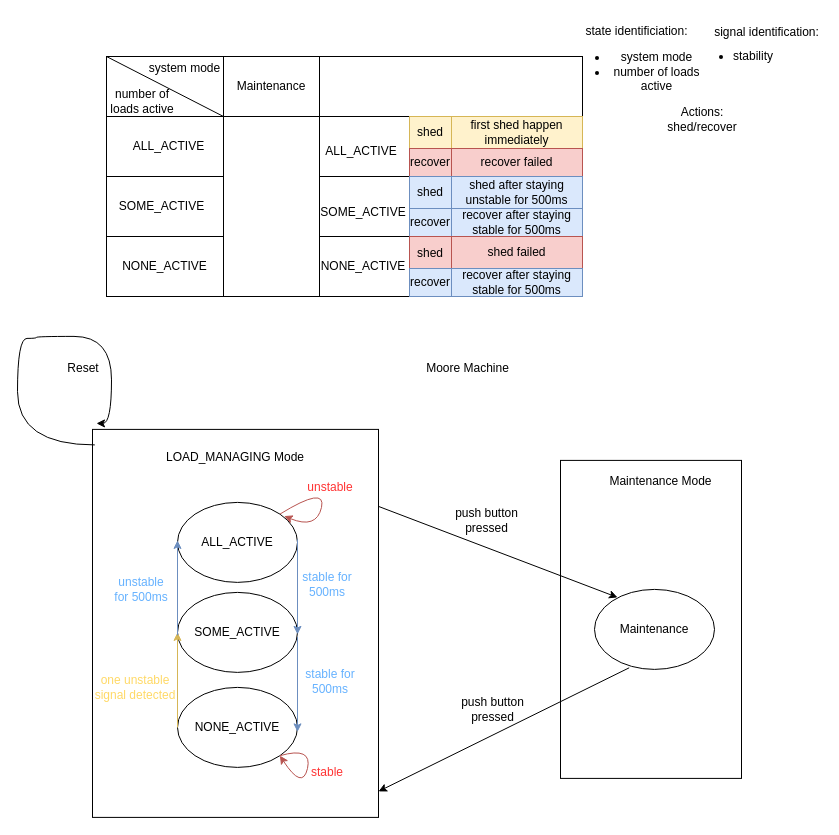
This 839x835 diagram has some shape labels left out. The shapes that lost their labels are listed below. From the top down, each one's centre as x and y in pixels, then its label:
At point (450, 86): "LOAD_MANAGING".
At point (271, 206): "The system purely depends on switches".
